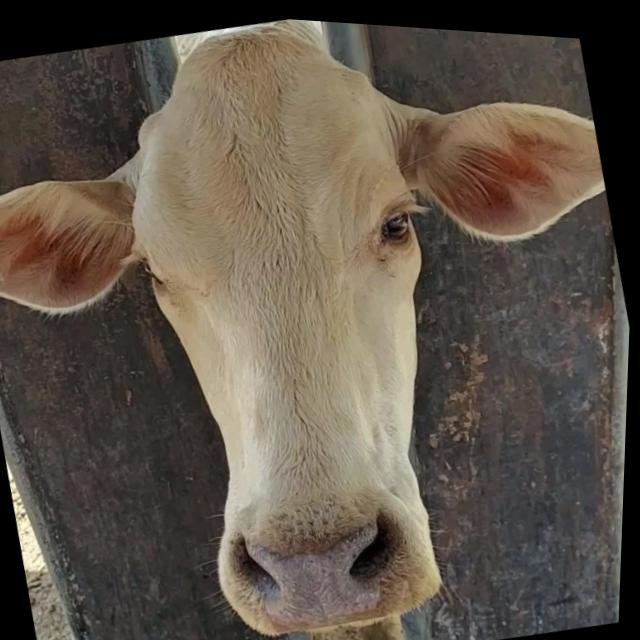cowFace: (95, 6, 506, 640)
